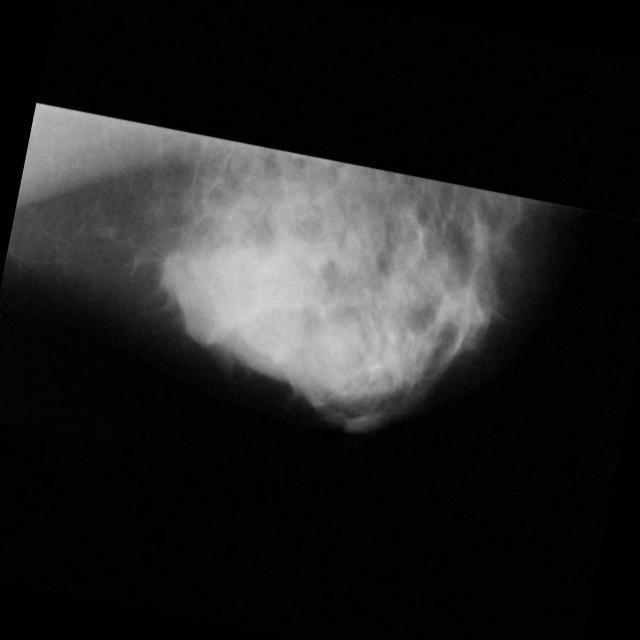CALC: (281, 165, 292, 176)
